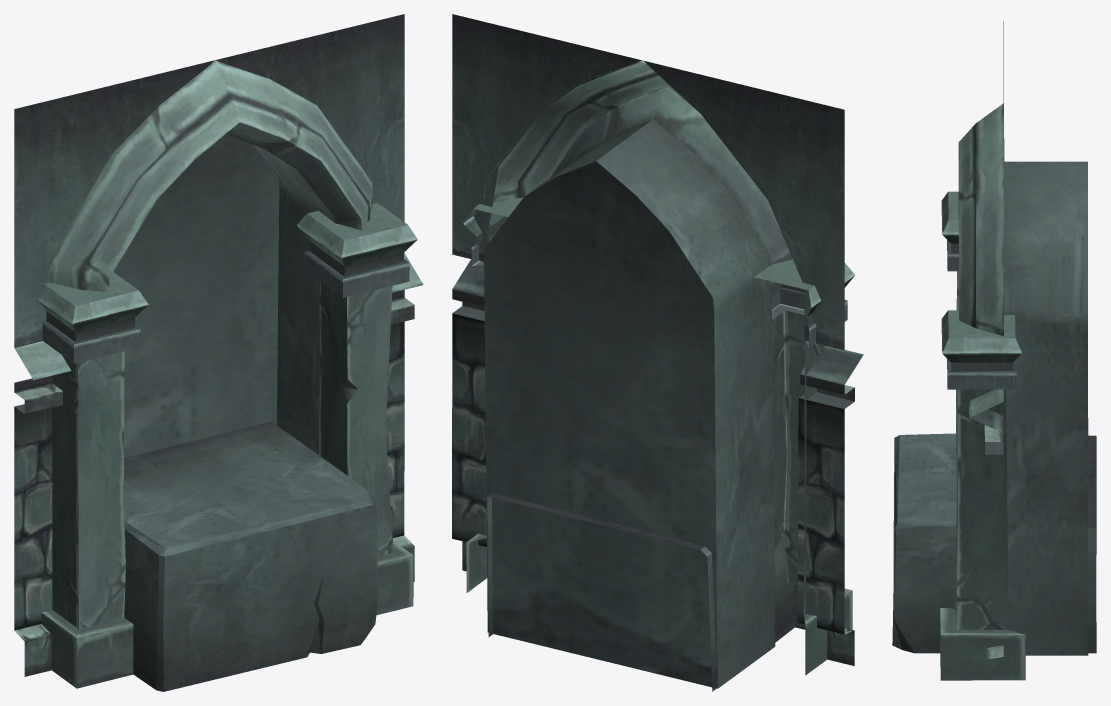
File: crypt_wall_straight_15.fbx
3 renders of one model, left to right at view 1: azimuth 30°, elevation 25°; view 2: azimuth 150°, elevation 25°; view 3: azimuth 270°, elevation 25°, orthographic. The views are drawn at different scales.
Parts seen in each view (by area): view 1: crypt_wall_straight_15-0; view 2: crypt_wall_straight_15-0; view 3: crypt_wall_straight_15-0.
Part boxes in pixels (box(x1,y1,x2,y2)): crypt_wall_straight_15-0: box(14, 14, 423, 691); crypt_wall_straight_15-0: box(452, 14, 863, 691); crypt_wall_straight_15-0: box(892, 21, 1096, 680).
Size of the model in its own units: 4 by 5.49 by 2.01.
